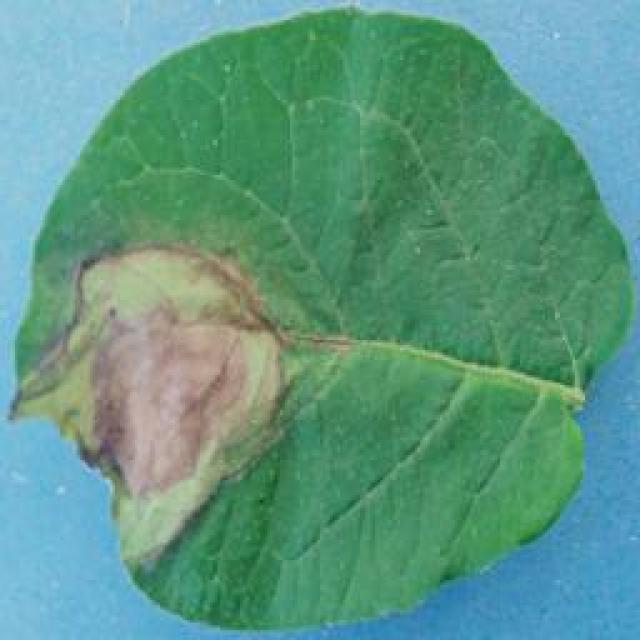Potato_Late_Blight: (18, 28, 623, 624)
